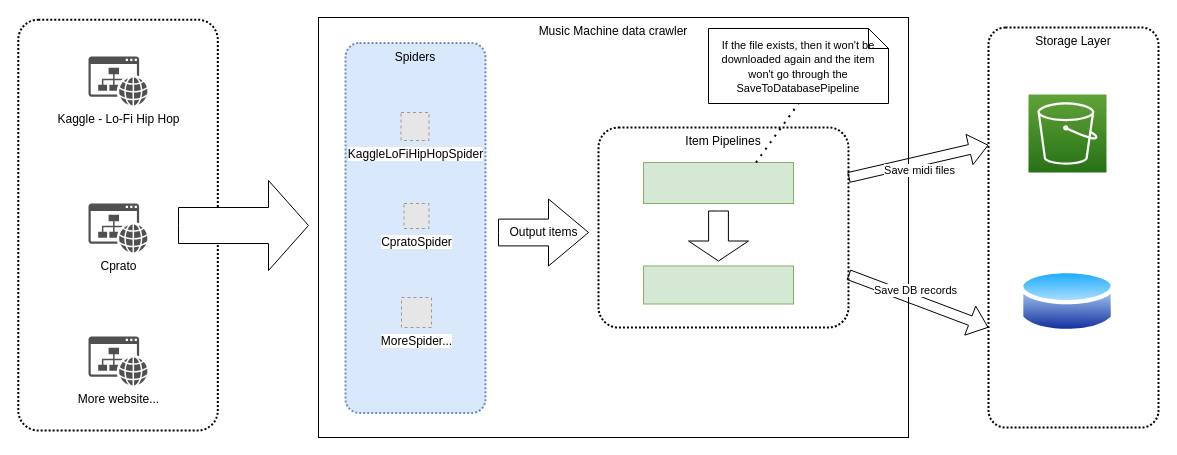
Some shapes in this 1177 by 455 pixel diagram are drawn without their labels. Grey dashed boxes stand in for pictures. The centre of each missing label's shape, as x and y in pixels:
"1) Get web pages 2) Download midi files" goes at point 243,225.
"CustomFilesPipeline (with AWS S3 storage)" goes at point 718,183.
"Pass items" goes at point 718,235.
"S3 Directories Midi files" goes at point 1067,133.
"SaveToDatabasePipeline" goes at point 718,284.
"SQL Database" goes at point 1067,301.
